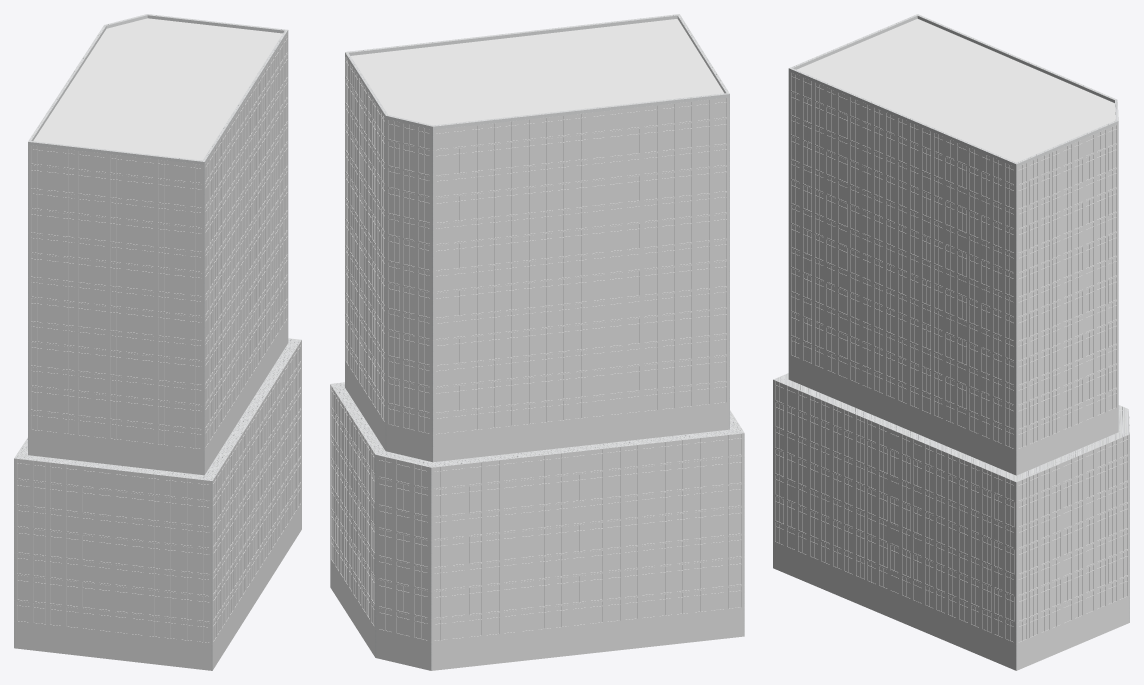
Rendered from clohbjevc02ld4p02wn31jg1m_0.glb.
3 renders of one model, left to right at view 1: azimuth 30°, elevation 25°; view 2: azimuth 150°, elevation 25°; view 3: azimuth 270°, elevation 25°, orthographic. The views are drawn at different scales.
Visible parts, largest first — view 1: mesh_Wall, mesh_CityEnginePBRShader, mesh_Glass, mesh_Brick; view 2: mesh_Wall, mesh_CityEnginePBRShader, mesh_Glass, mesh_Brick; view 3: mesh_Wall, mesh_CityEnginePBRShader, mesh_Glass, mesh_Brick.
Part boxes in pixels (x1,y1,x2,y2): mesh_Wall: [15, 33, 301, 669]; mesh_CityEnginePBRShader: [14, 18, 301, 670]; mesh_Glass: [17, 320, 300, 669]; mesh_Brick: [14, 14, 301, 669]; mesh_Wall: [330, 56, 743, 669]; mesh_CityEnginePBRShader: [330, 19, 744, 670]; mesh_Glass: [331, 363, 741, 669]; mesh_Brick: [330, 14, 744, 669]; mesh_Wall: [774, 72, 1128, 669]; mesh_CityEnginePBRShader: [773, 18, 1129, 670]; mesh_Glass: [775, 356, 1127, 668]; mesh_Brick: [773, 14, 1129, 669].
Bounding box in the file's own units: 69.73 × 99.36 × 64.27.
Materials: 5 (1 with a texture image).
